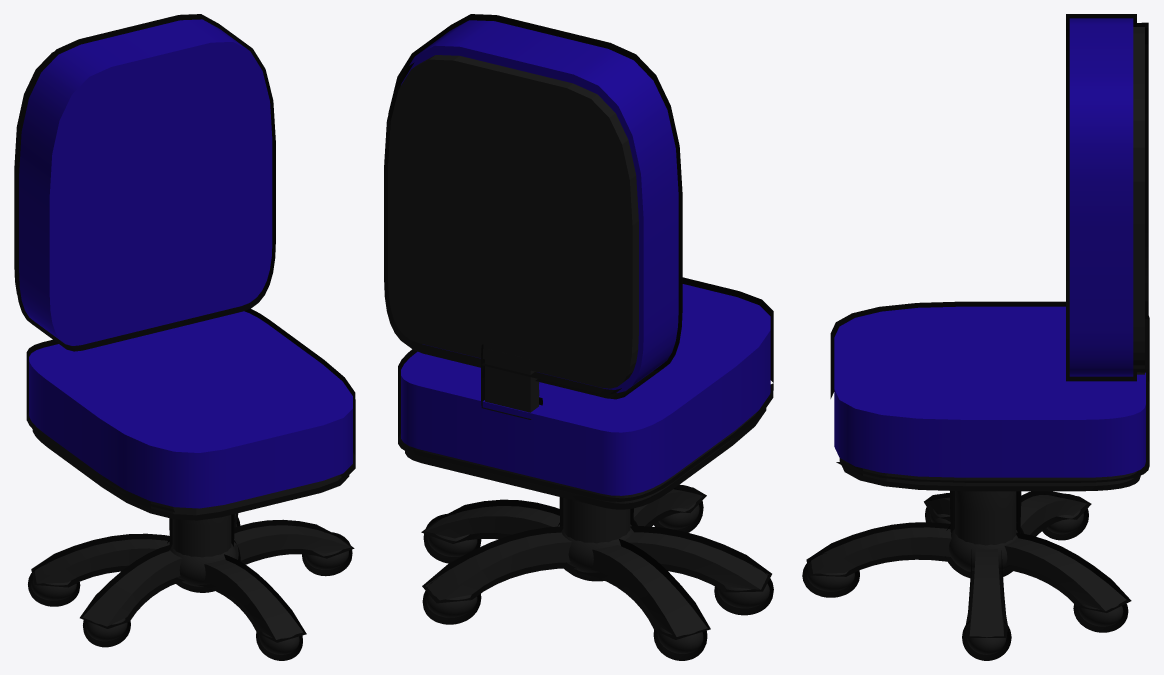
Rendered from chair.FBX.
The picture shows the model from 3 angles, left to right: view 1: azimuth 30°, elevation 25°; view 2: azimuth 150°, elevation 25°; view 3: azimuth 270°, elevation 25°; orthographic projection. The views are drawn at different scales.
Visible parts, largest first — view 1: Box003, Box004; view 2: Box003, Box004; view 3: Box003, Box004.
Part boxes in pixels (x1,y1,x2,y2): Box003: [19, 19, 352, 654]; Box004: [14, 14, 355, 660]; Box003: [388, 20, 770, 653]; Box004: [384, 14, 773, 660]; Box003: [807, 18, 1145, 654]; Box004: [802, 14, 1149, 660].
Bounding box in the file's own units: 24.84 × 44.14 × 25.39.
